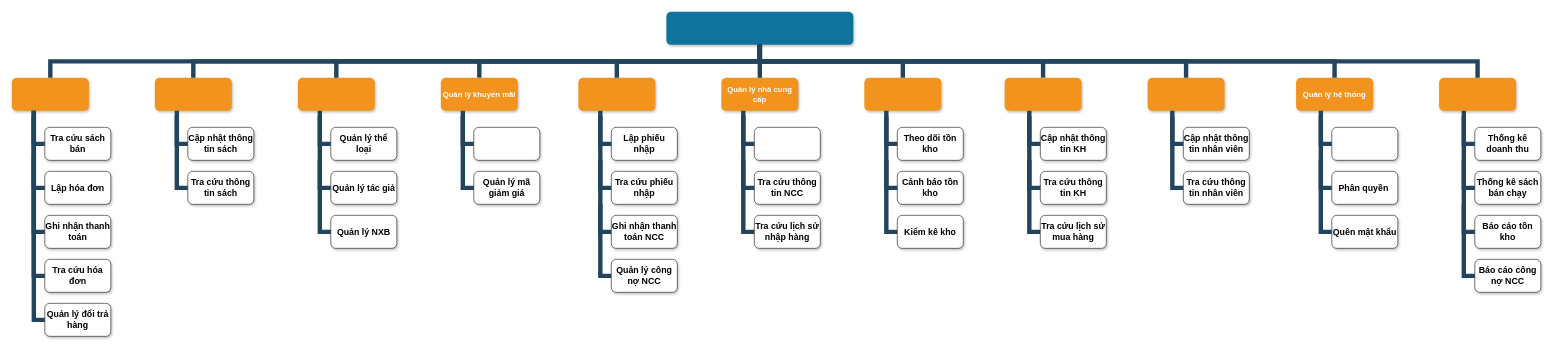
Some shapes in this 1554 by 350 pixel diagram are drawn without their labels. Each missing label, with the centre of its shape:
Cập nhật thông tin NCC: pixel 788 144
Hệ thống quản lý nhà sách: pixel 760 28
Quản lý bán hàng: pixel 50 94
Quản lý danh mục sách: pixel 336 94
Quản lý kho: pixel 903 94
Quản lý khách hàng: pixel 1043 94
Quản lý nhân viên: pixel 1186 94
Quản lý nhập hàng: pixel 617 94
Quản lý sách: pixel 193 94
Thiết lập chương trình KM: pixel 507 144
Thống kê - báo cáo: pixel 1478 94
Đăng xuất/Đăng nhập: pixel 1365 144
